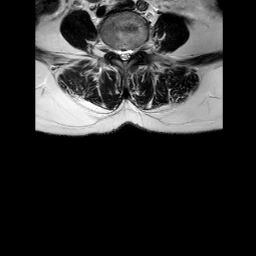CCS_severe_stenosis: (121, 41, 127, 68)
LFS_stenosis: (133, 38, 140, 58)
LLS_normal: (127, 41, 133, 63)
RFS_stenosis: (109, 38, 116, 60)
RLS_stenosis: (116, 41, 121, 64)
